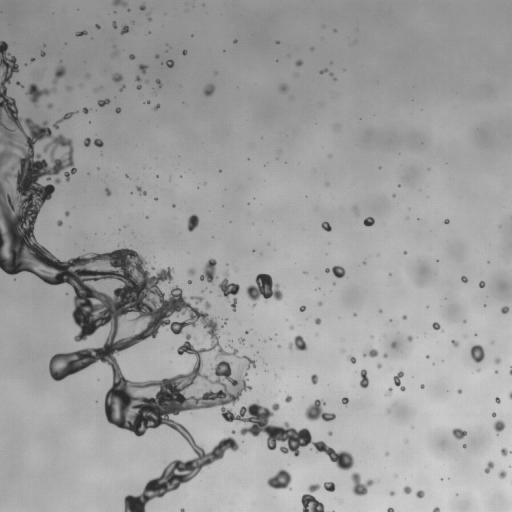droplet: (246, 273, 283, 306), (301, 484, 326, 511), (305, 399, 335, 421), (25, 83, 55, 104), (351, 472, 374, 495), (267, 469, 291, 489), (200, 259, 216, 283), (288, 335, 307, 350), (325, 265, 345, 278), (470, 344, 484, 362), (187, 214, 199, 231), (493, 420, 505, 434), (362, 347, 378, 357), (452, 428, 466, 439), (204, 84, 215, 96), (484, 461, 494, 473), (323, 482, 335, 491), (97, 98, 110, 106), (363, 217, 374, 226), (190, 296, 203, 303), (112, 73, 122, 82), (136, 186, 146, 195), (321, 222, 331, 231), (138, 64, 147, 73), (93, 139, 103, 147), (120, 25, 128, 34), (347, 355, 356, 363), (498, 470, 506, 479), (311, 374, 318, 384), (279, 84, 287, 92), (432, 322, 440, 330), (501, 447, 509, 455), (403, 486, 411, 494), (416, 490, 424, 498), (165, 60, 174, 67), (84, 137, 91, 146), (187, 268, 195, 275), (501, 306, 509, 313), (385, 387, 392, 395), (284, 395, 292, 402), (105, 188, 111, 196), (342, 397, 348, 405), (295, 60, 302, 66), (82, 107, 89, 113), (451, 340, 458, 346), (461, 276, 467, 282), (479, 281, 485, 287), (299, 305, 305, 311), (315, 318, 321, 324), (238, 338, 244, 344), (494, 358, 500, 364), (320, 69, 327, 74), (156, 79, 161, 86), (205, 302, 210, 309), (112, 21, 117, 27), (129, 54, 135, 59), (16, 81, 22, 86), (154, 104, 159, 110), (57, 220, 62, 226), (495, 397, 500, 403), (387, 507, 394, 511), (432, 507, 439, 511), (140, 5, 145, 10), (40, 51, 45, 56), (135, 76, 140, 81), (115, 107, 120, 112), (391, 342, 396, 347), (353, 206, 357, 212), (182, 50, 186, 55), (120, 85, 124, 90), (66, 86, 71, 90), (444, 219, 449, 223), (408, 336, 412, 341), (457, 389, 462, 393), (389, 491, 394, 495), (96, 24, 100, 28), (155, 54, 159, 58), (137, 85, 141, 89), (48, 103, 52, 107), (65, 211, 69, 215), (402, 315, 406, 319), (420, 384, 424, 388), (328, 431, 332, 435), (187, 280, 191, 283), (224, 319, 227, 323), (383, 354, 387, 357), (377, 364, 381, 367), (180, 508, 184, 511), (233, 40, 236, 43), (31, 58, 34, 61), (125, 175, 128, 178), (318, 302, 321, 305), (290, 326, 293, 329), (245, 330, 248, 333), (492, 413, 495, 416), (463, 444, 466, 447), (330, 73, 332, 76), (398, 184, 400, 187), (155, 197, 157, 200), (404, 251, 406, 254), (379, 310, 382, 312), (463, 320, 466, 322), (426, 355, 428, 358), (495, 370, 497, 373), (386, 452, 388, 455), (149, 18, 151, 20), (96, 88, 98, 90), (335, 126, 337, 128), (326, 183, 328, 185), (393, 194, 395, 196), (152, 267, 154, 269), (354, 313, 356, 315), (477, 369, 479, 371)
ligament: (0, 41, 351, 511), (218, 271, 239, 310), (53, 111, 76, 129), (393, 370, 405, 391), (53, 66, 65, 83), (360, 369, 369, 388), (112, 0, 126, 6), (75, 30, 86, 36), (509, 366, 511, 375), (509, 392, 511, 399)
